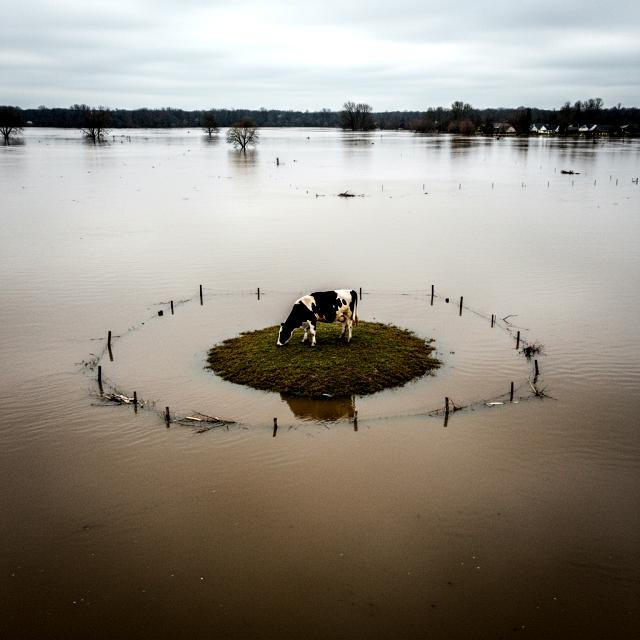cow: (270, 277, 376, 359)
